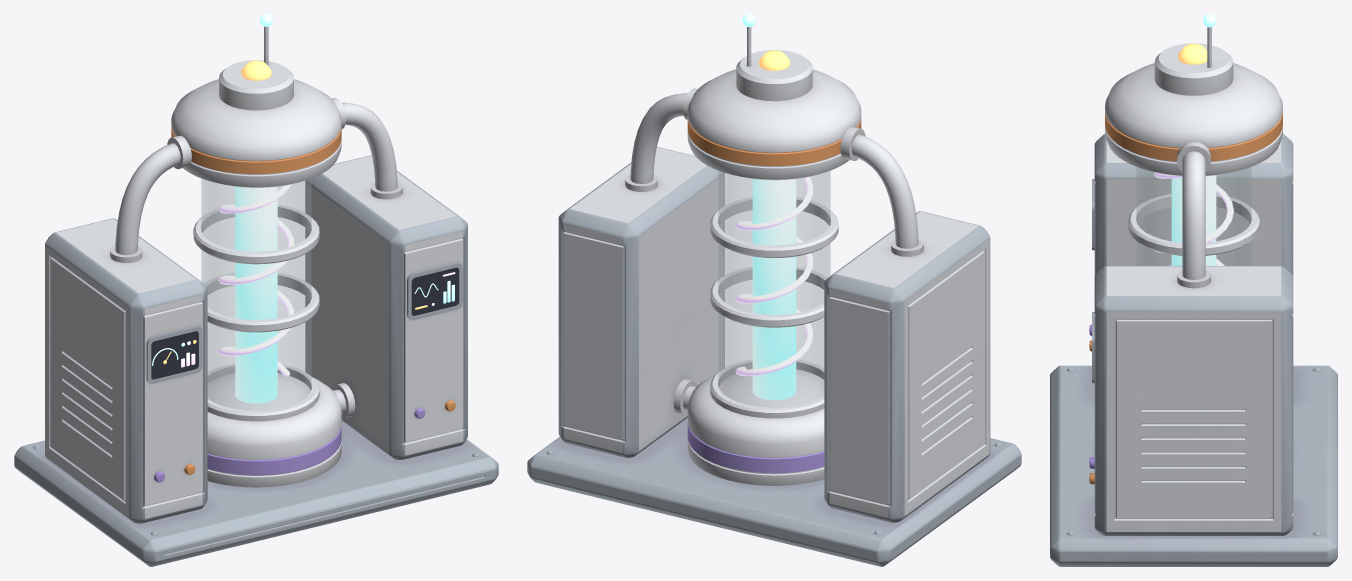
The model's file is power-generator.glb.
The picture shows the model from 3 angles, left to right: view 1: azimuth 30°, elevation 25°; view 2: azimuth 150°, elevation 25°; view 3: azimuth 270°, elevation 25°; orthographic projection. The views are drawn at different scales.
Visible parts, largest first — view 1: power-generator_body, power-generator_core_glass, power-generator_energy_glow; view 2: power-generator_body, power-generator_core_glass, power-generator_energy_glow; view 3: power-generator_body, power-generator_core_glass, power-generator_energy_glow.
Part boxes in pixels (box(x1,y1,x2,y2)): power-generator_body: box(14, 26, 498, 566); power-generator_core_glass: box(201, 179, 311, 409); power-generator_energy_glow: box(152, 14, 455, 403); power-generator_body: box(527, 27, 1021, 566); power-generator_core_glass: box(718, 171, 830, 406); power-generator_energy_glow: box(735, 14, 813, 400); power-generator_body: box(1050, 27, 1337, 566); power-generator_core_glass: box(1136, 167, 1251, 265); power-generator_energy_glow: box(1154, 14, 1233, 265).
Size of the model in its own units: 1.64 by 2 by 1.1.
Materials: 5 (1 with a texture image).
